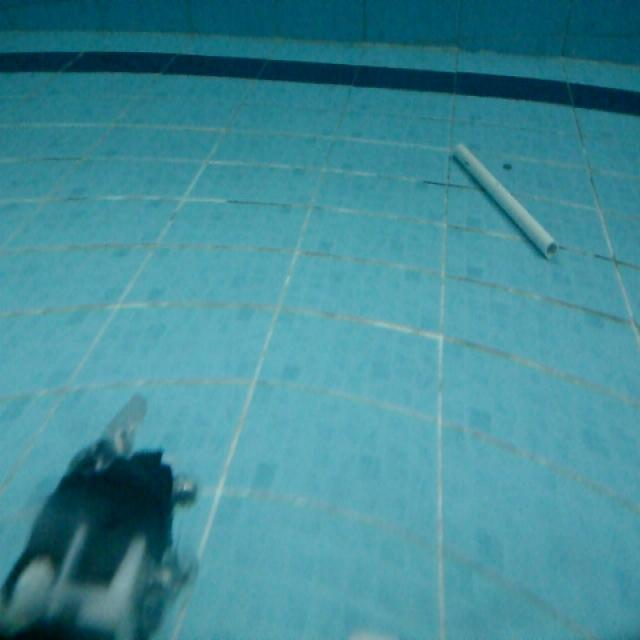Cube: (449, 136, 561, 263)
